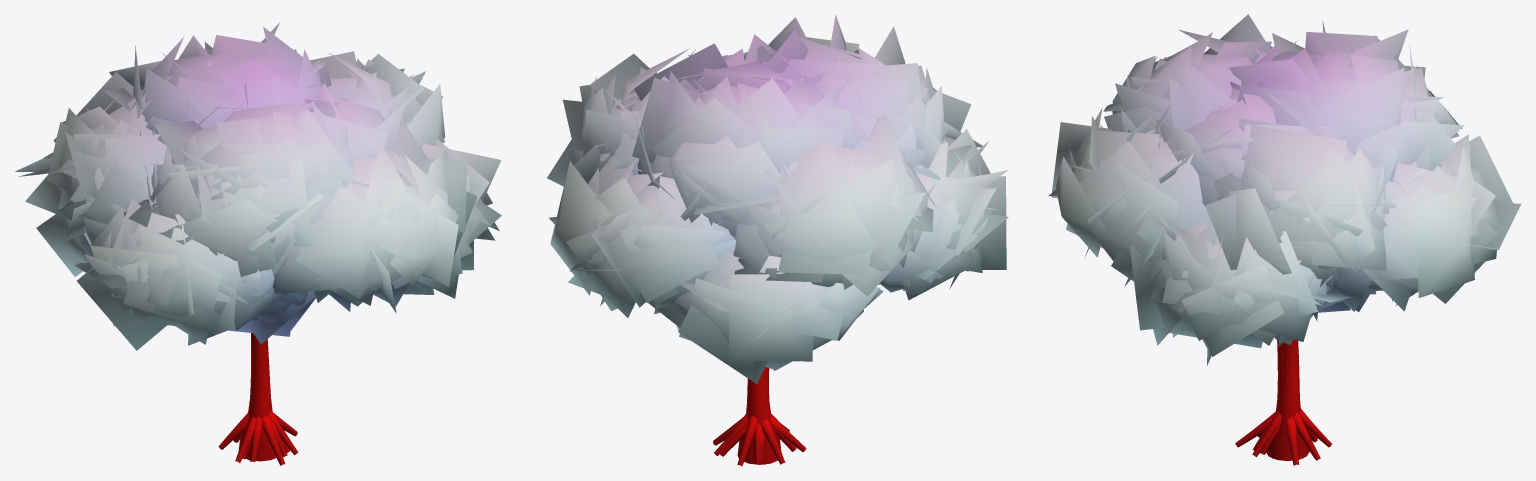
Rendered from seaalmond.glb.
The picture shows the model from 3 angles, left to right: view 1: azimuth 30°, elevation 25°; view 2: azimuth 150°, elevation 25°; view 3: azimuth 270°, elevation 25°; orthographic projection. The views are drawn at different scales.
Visible parts, largest first — view 1: seaalmond-hero_LOD0, seaalmond-0_LOD0, seaalmond-1_LOD0; view 2: seaalmond-hero_LOD0, seaalmond-1_LOD0, seaalmond-0_LOD0; view 3: seaalmond-hero_LOD0, seaalmond-0_LOD0, seaalmond-1_LOD0.
Part boxes in pixels (x1=…): seaalmond-hero_LOD0: x1=18, y1=22, x2=501, y2=465; seaalmond-0_LOD0: x1=25, y1=49, x2=495, y2=460; seaalmond-1_LOD0: x1=15, y1=35, x2=473, y2=461; seaalmond-hero_LOD0: x1=547, y1=15, x2=1008, y2=466; seaalmond-1_LOD0: x1=563, y1=26, x2=1006, y2=464; seaalmond-0_LOD0: x1=549, y1=34, x2=996, y2=464; seaalmond-hero_LOD0: x1=1066, y1=14, x2=1497, y2=465; seaalmond-0_LOD0: x1=1048, y1=41, x2=1502, y2=458; seaalmond-1_LOD0: x1=1069, y1=35, x2=1521, y2=458.
Size of the model in its own units: 15.4 by 14.41 by 15.5.
